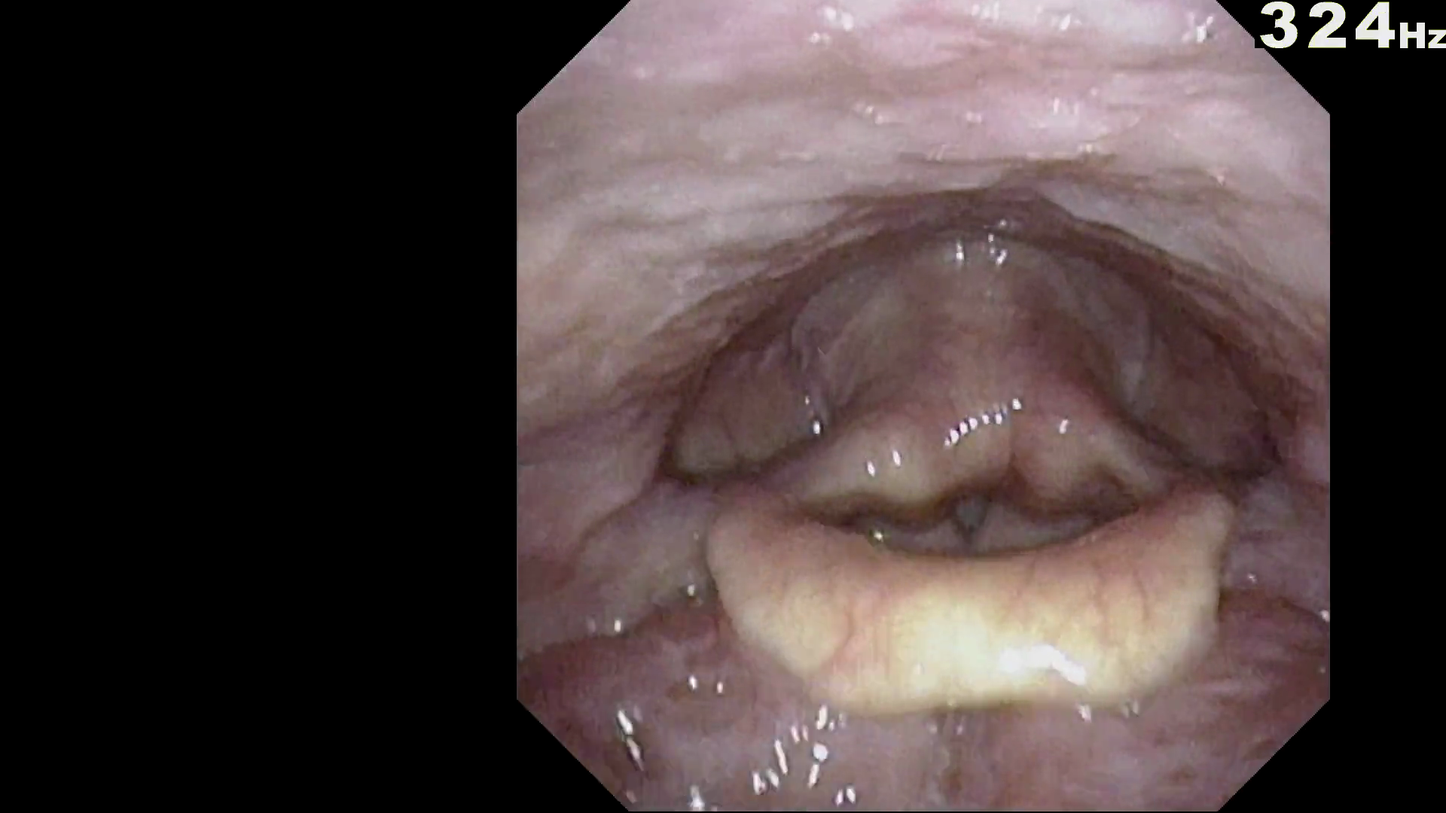epiglottis: (699, 515, 1244, 743)
trachea: (925, 478, 1010, 567)
